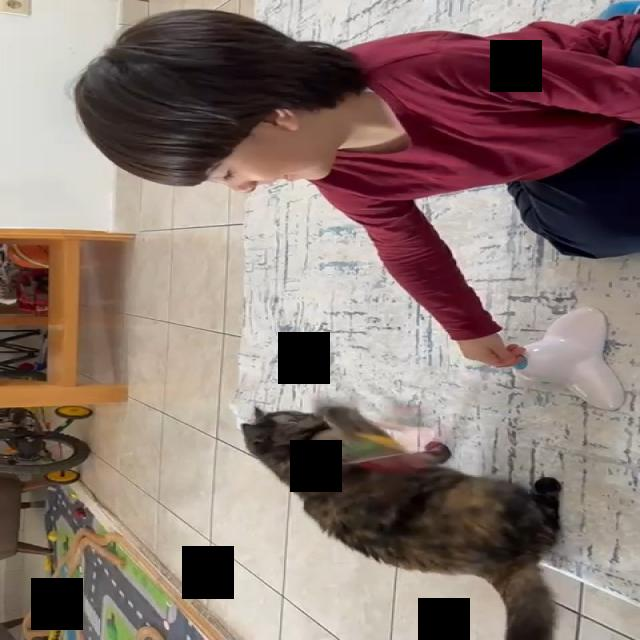authorized: (238, 404, 562, 639)
